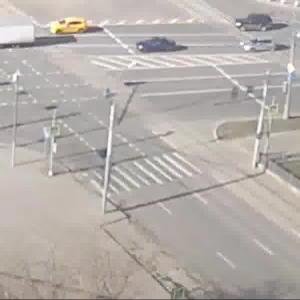car: (237, 14, 284, 33), (50, 17, 94, 37), (137, 39, 179, 54), (248, 36, 273, 56)
